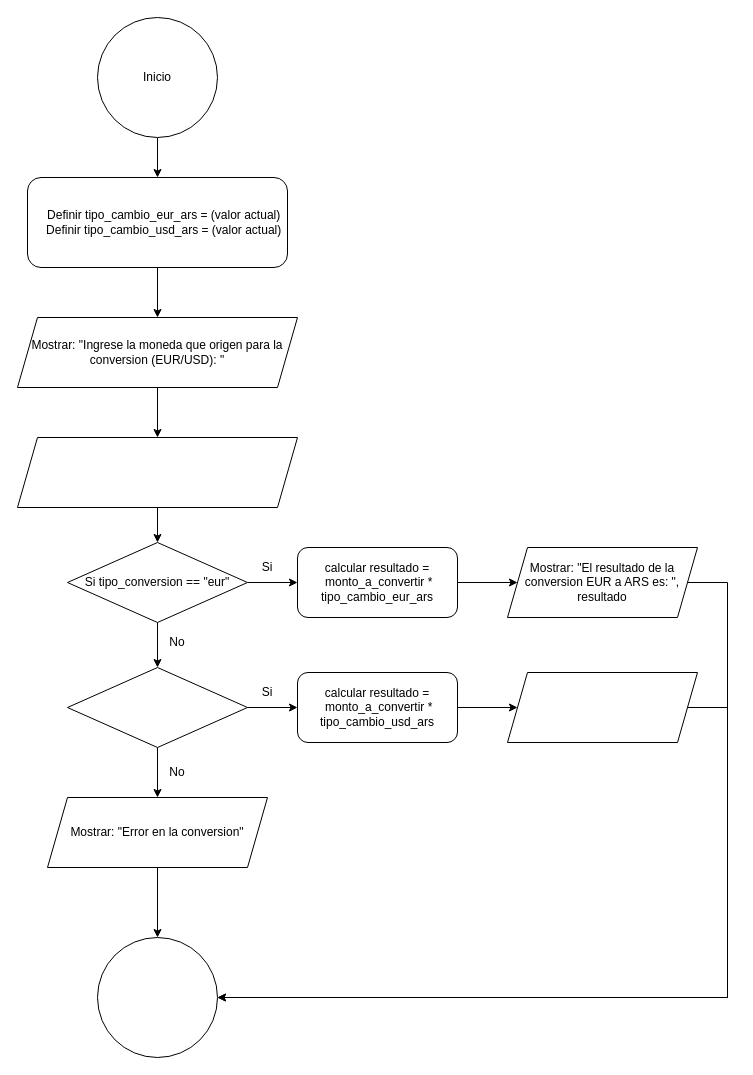
This 753x1075 diagram has some shape labels left out. The shapes that lost their labels are listed below. From the top down, each one's centre as x and y in pixels, then its label:
point 157,472: Mostrar: "Ingresar monto a convertir: "
point 157,707: Si tipo_conversion == "usd"
point 602,707: Mostrar: "El resultado de la conversion USD a ARS es: ", resultado
point 157,997: FIN
